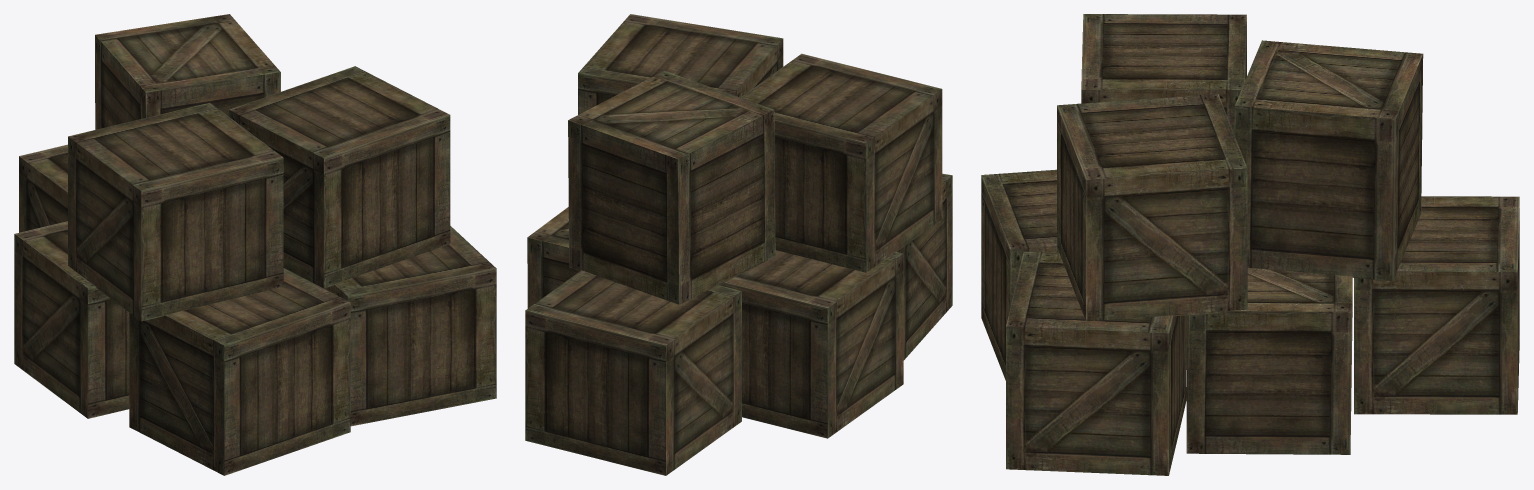
File: thing_cagoboxset00.fbx
The picture shows the model from 3 angles, left to right: view 1: azimuth 30°, elevation 25°; view 2: azimuth 150°, elevation 25°; view 3: azimuth 270°, elevation 25°; orthographic projection. The views are drawn at different scales.
Parts seen in each view (by area): view 1: thing_cagoboxset00; view 2: thing_cagoboxset00; view 3: thing_cagoboxset00.
Boxes of the visible parts, x1,y1,x2,y2 form: thing_cagoboxset00: [14, 14, 496, 475]; thing_cagoboxset00: [525, 14, 952, 475]; thing_cagoboxset00: [981, 14, 1519, 475].
Bounding box in the file's own units: 2.61 × 2.04 × 3.26.
